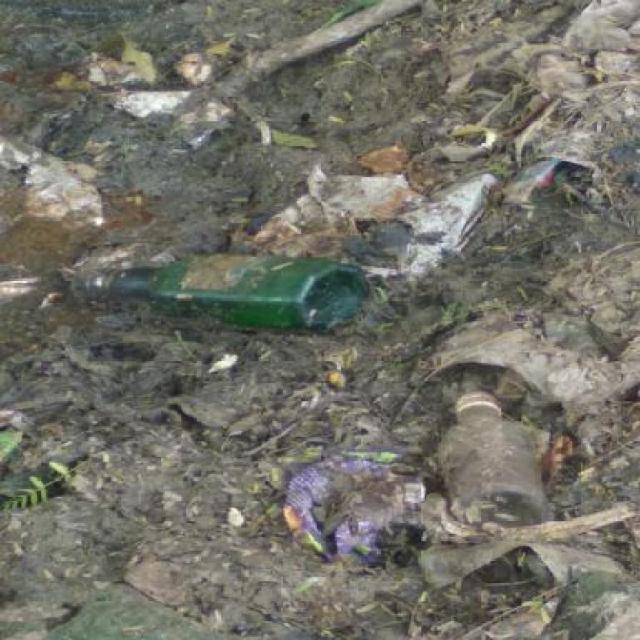garbage: (19, 263, 528, 416)
